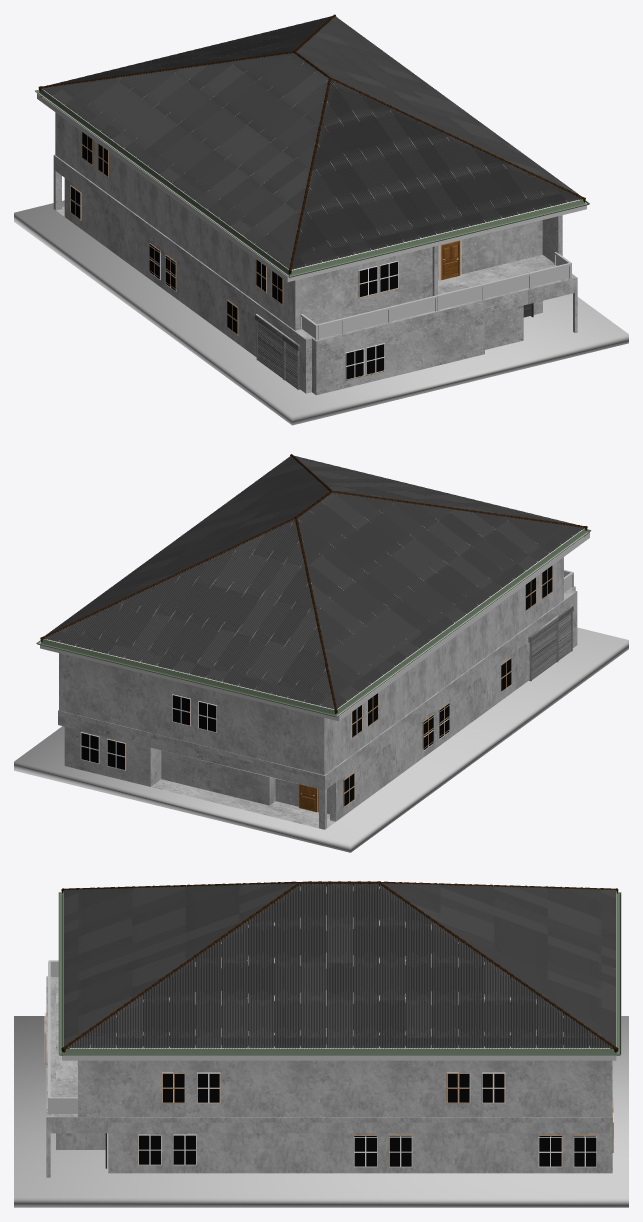
File: rumah depan.fbx
The picture shows the model from 3 angles, top to bottom: view 1: azimuth 30°, elevation 25°; view 2: azimuth 150°, elevation 25°; view 3: azimuth 270°, elevation 25°; orthographic projection. The views are drawn at different scales.
Parts seen in each view (by area): view 1: Atap, RollingShutter.001, Plane, pinggirjendela.024, pinggirjendela.009, Atap.001, RollingShutter.011, door.001; view 2: Atap, RollingShutter.001, pinggirjendela.024, Plane, Atap.001, RollingShutter.011; view 3: Atap, Plane, RollingShutter.001, pinggirjendela.024, Atap.001, pinggirjendela.009, RollingShutter.007, windows.018, windows.020, windows.019, windows.021, jendela (+8 smaller).
Boxes of the visible parts, x1,y1,x2,y2 form: Atap: (35,14,589,277); RollingShutter.001: (53,154,577,395); Plane: (14,200,628,425); pinggirjendela.024: (55,112,562,330); pinggirjendela.009: (300,252,571,340); Atap.001: (37,93,586,281); RollingShutter.011: (255,314,300,389); door.001: (441,241,459,279); Atap: (36,454,591,717); RollingShutter.001: (58,586,577,829); pinggirjendela.024: (59,557,563,774); Plane: (14,627,628,852); Atap.001: (40,532,589,721); RollingShutter.011: (529,606,573,681); Atap: (58,881,621,1055); Plane: (14,1016,628,1207); RollingShutter.001: (46,976,613,1177); pinggirjendela.024: (77,1060,612,1116); Atap.001: (62,1055,616,1060); pinggirjendela.009: (48,960,77,1114); RollingShutter.007: (354,1136,562,1167); windows.018: (162,1073,185,1103); windows.020: (446,1073,469,1103); windows.019: (197,1073,220,1103); windows.021: (481,1073,504,1103); jendela: (173,1135,195,1164).
Bounding box in the file's own units: 2513 × 1517 × 3598.
